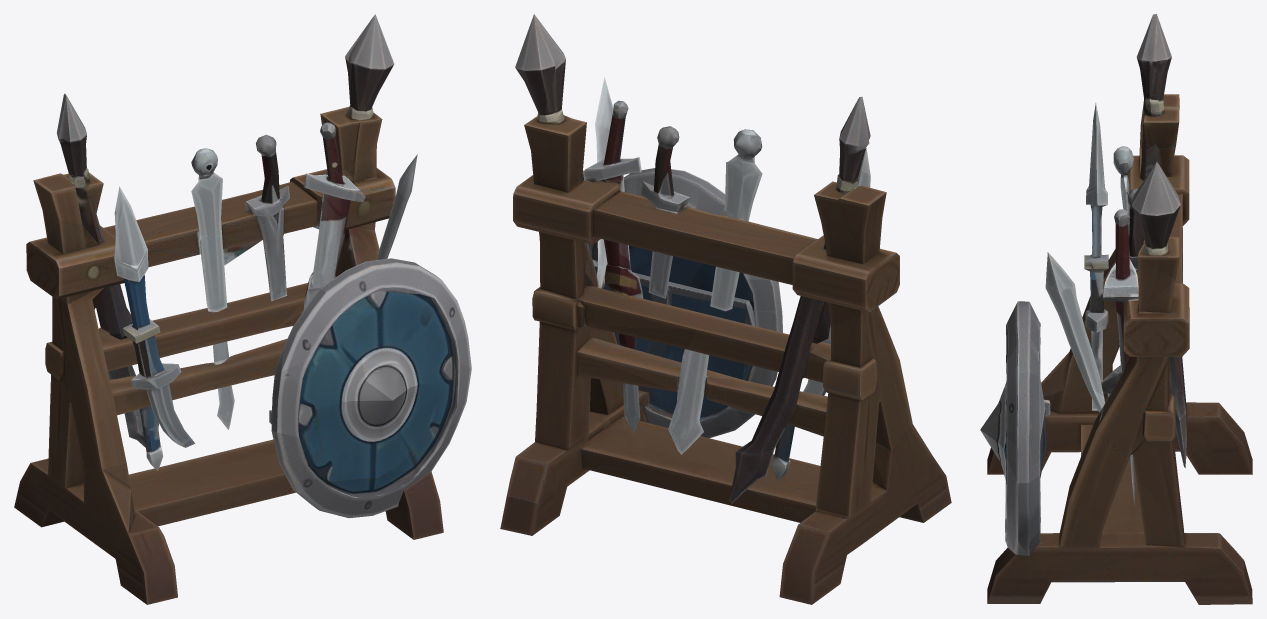
The model's file is weapon_rack.glb.
3 views of the same model, side by side, from view 1: azimuth 30°, elevation 25°; view 2: azimuth 150°, elevation 25°; view 3: azimuth 270°, elevation 25° (orthographic). The views are drawn at different scales.
Visible parts, largest first — view 1: weapon_rack; view 2: weapon_rack; view 3: weapon_rack.
Part boxes in pixels (box(x1,y1,x2,y2)): weapon_rack: box(14, 14, 471, 604); weapon_rack: box(500, 14, 951, 604); weapon_rack: box(980, 14, 1252, 604).
Size of the model in its own units: 1.66 by 2 by 1.1.
1 material, 1 textured.
